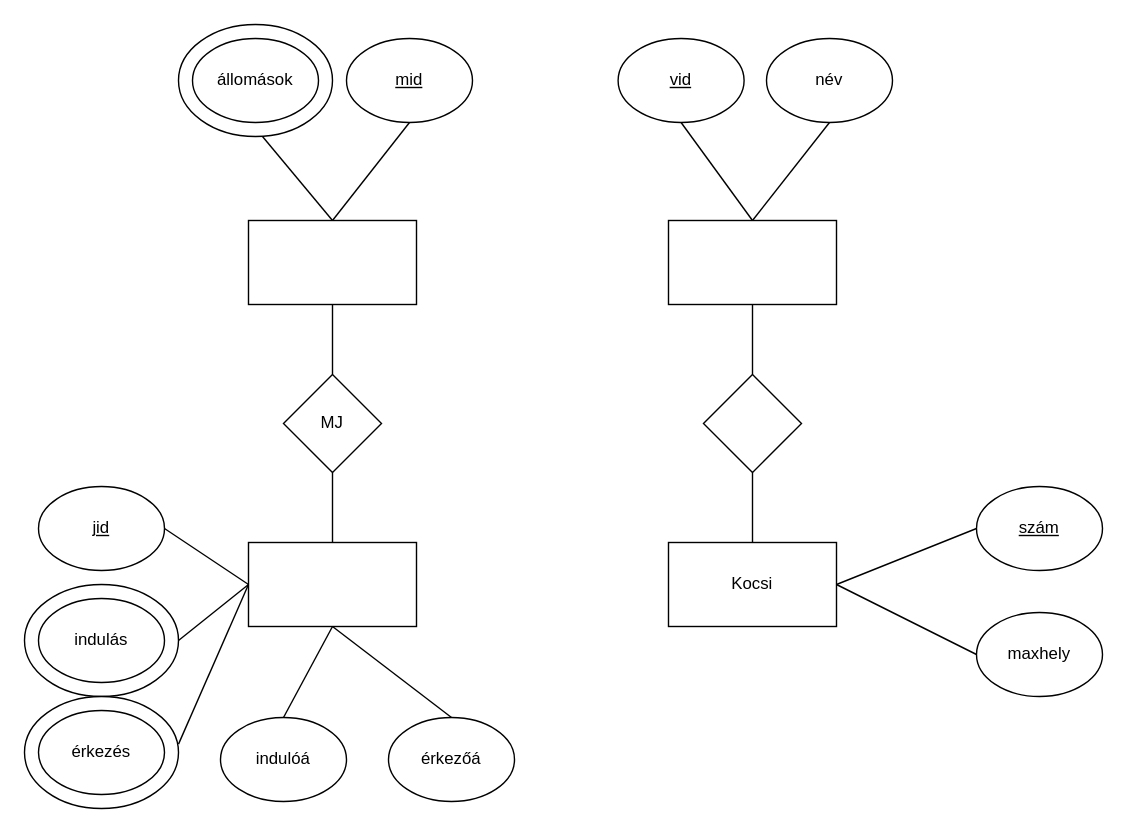
This 1127x833 diagram has some shape labels left out. The box of each missing label's shape, as (x1, y1, x2, y2) in pixels:
Járat: (247, 541, 416, 626)
MÁV: (247, 219, 416, 304)
VK: (702, 373, 802, 472)
Vonat: (667, 219, 836, 304)
